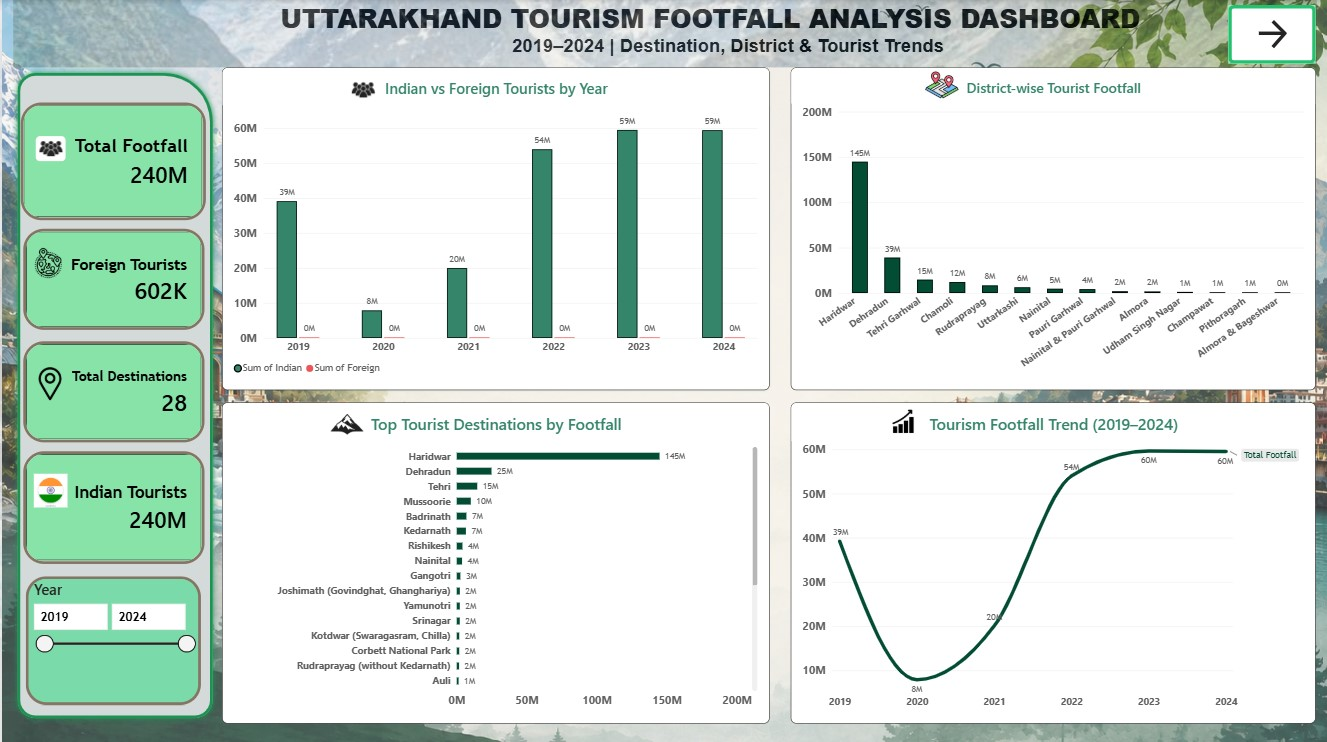

What the dashboard file says about the page in this screenshot:
{"tool":"powerbi","page":{"name":"Tourism Overview","canvas":[1920,1080],"ordinal":0},"visuals":[{"type":"shape","box":[14.5,97.7,298.6,950.1],"z":0},{"type":"cardVisual","fields":{"Data":["Final Tourism 2019-2024.Total Destinations"]},"box":[30.4,494,262.4,146.6],"z":1000},{"type":"cardVisual","fields":{"Data":["Final Tourism 2019-2024.Foreign Tourists"]},"box":[30.4,331.2,262.4,146.6],"z":2000},{"type":"cardVisual","fields":{"Data":["Final Tourism 2019-2024.Indian Tourists"]},"box":[30.4,653.3,262.4,162.9],"z":3000},{"type":"lineChart","title":"Tourism Footfall Trend (2019–2024)","fields":{"Category":["Final Tourism 2019-2024.Year"],"Y":["Final Tourism 2019-2024.Total Footfall"]},"box":[1141.9,582.7,760.1,465.1],"z":4000},{"type":"clusteredColumnChart","title":"Indian vs Foreign Tourists by Year","fields":{"Category":["Final Tourism 2019-2024.Year"],"Y":["Sum(Final Tourism 2019-2024.Indian)","Sum(Final Tourism 2019-2024.Foreign)"]},"box":[318.5,97.7,792.6,466.9],"z":5000},{"type":"clusteredBarChart","title":"Top Tourist Destinations by Footfall","fields":{"Category":["Final Tourism 2019-2024.Destination"],"Y":["Sum(Final Tourism 2019-2024.Total)"]},"box":[318.5,582.7,792.6,465.1],"z":6000},{"type":"clusteredColumnChart","title":"District-wise Tourist Footfall","fields":{"Category":["Final Tourism 2019-2024.District"],"Y":["Sum(Final Tourism 2019-2024.Total)"]},"box":[1141.9,97.7,760.1,466.9],"z":7000},{"type":"slicer","title":"Select Year","fields":{"Values":["Final Tourism 2019-2024.Year"]},"box":[34.9,834.3,253.4,186.4],"z":8000},{"type":"textbox","box":[367.9,0,1315.8,84.4],"z":9000},{"type":"image","box":[499.5,112.2,47.1,36.2],"z":10000},{"type":"image","box":[1328.3,97.7,65.1,50.7],"z":11000},{"type":"image","box":[475.9,588.1,47.1,52.5],"z":12000},{"type":"image","box":[1281.2,582.7,47.1,54.3],"z":13000},{"type":"cardVisual","fields":{"Data":["Final Tourism 2019-2024.Total Footfall"]},"box":[27.7,148.4,267.8,170.1],"z":14000},{"type":"image","box":[48.9,197.3,43.4,36.2],"z":15000},{"type":"image","box":[41.6,356.5,50.7,48.9],"z":16000},{"type":"image","box":[34.4,528.4,70.6,54.3],"z":17000},{"type":"image","box":[45.2,685.9,50.7,48.9],"z":18000},{"type":"image","box":[16.3,0,1887.5,97.7],"z":18001},{"type":"actionButton","box":[1775.3,7.2,126.7,85.1],"z":18002}]}

Visuals, with their boxes in screenshot pixels (x1, y1, x2, y2), scaled from the page's 1920x1080 canvas onto the 1327x742 screenshot:
shape: (10,67,216,720)
cardVisual - Final Tourism 2019-2024.Total Destinations: (21,339,202,440)
cardVisual - Final Tourism 2019-2024.Foreign Tourists: (21,228,202,328)
cardVisual - Final Tourism 2019-2024.Indian Tourists: (21,449,202,561)
"Tourism Footfall Trend (2019–2024)" lineChart: (789,400,1315,720)
"Indian vs Foreign Tourists by Year" clusteredColumnChart: (220,67,768,388)
"Top Tourist Destinations by Footfall" clusteredBarChart: (220,400,768,720)
"District-wise Tourist Footfall" clusteredColumnChart: (789,67,1315,388)
"Select Year" slicer: (24,573,199,701)
textbox: (254,0,1164,58)
image: (345,77,378,102)
image: (918,67,963,102)
image: (329,404,361,440)
image: (885,400,918,438)
cardVisual - Final Tourism 2019-2024.Total Footfall: (19,102,204,219)
image: (34,136,64,160)
image: (29,245,64,279)
image: (24,363,73,400)
image: (31,471,66,505)
image: (11,0,1316,67)
actionButton: (1227,5,1315,63)
